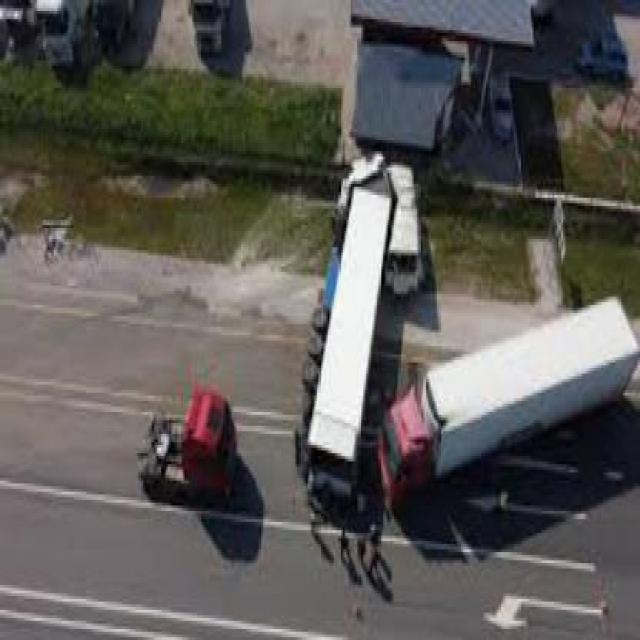accident: (303, 151, 637, 514)
